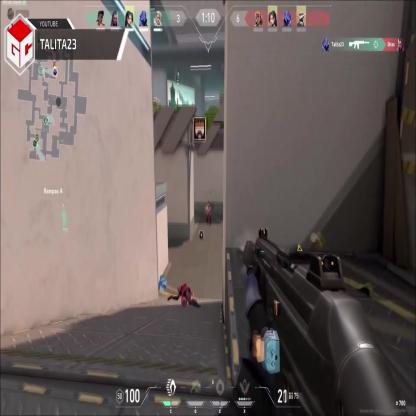enemy: (206, 200, 210, 224)
enemy_head: (208, 204, 210, 209)
